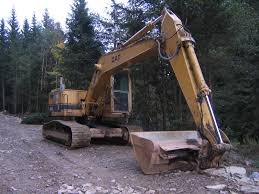excavator: (41, 8, 240, 177)
